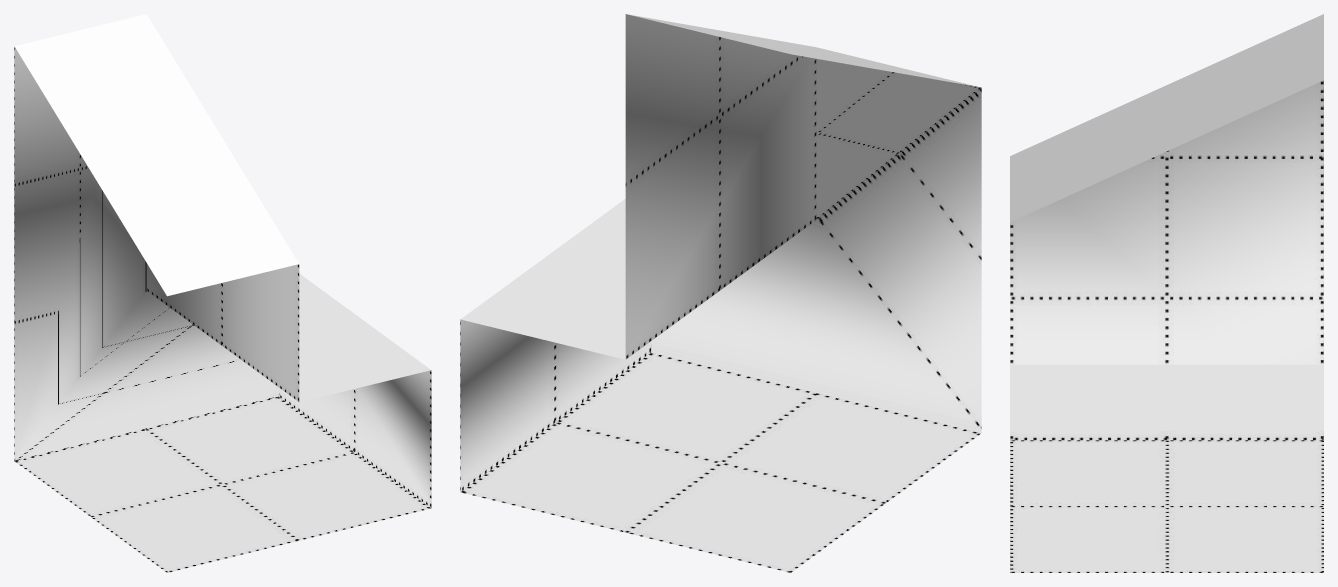
File: Fig2fbx.glb
3 views of the same model, side by side, from view 1: azimuth 30°, elevation 25°; view 2: azimuth 150°, elevation 25°; view 3: azimuth 270°, elevation 25° (orthographic). The views are drawn at different scales.
Visible parts, largest first — view 1: Model; view 2: Model; view 3: Model.
Boxes of the visible parts, x1,y1,x2,y2 form: Model: (14, 14, 431, 572); Model: (460, 14, 981, 572); Model: (1010, 14, 1323, 572).
Bounding box in the file's own units: 200 × 300 × 200.
2 materials, 1 textured.
